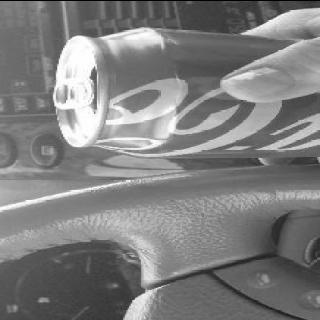alumunium_can: (52, 26, 318, 158)
